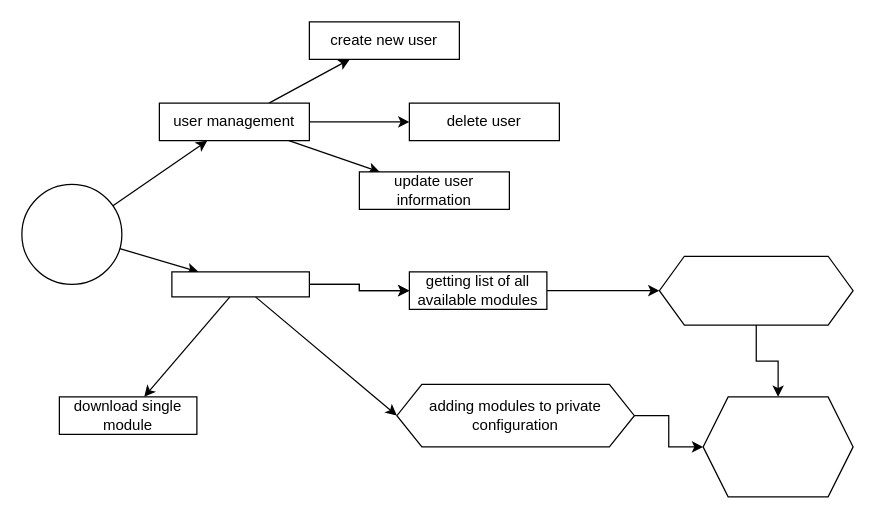
Image size: 875x519. Some labels were removed from this diagram. Here are the shapes that lost their labels. From the top down, the centre of each, then its label:
the point at 71,233: API
the point at 240,284: module handling
the point at 755,290: comparing versioning with private configuration
the point at 777,446: private configuration
